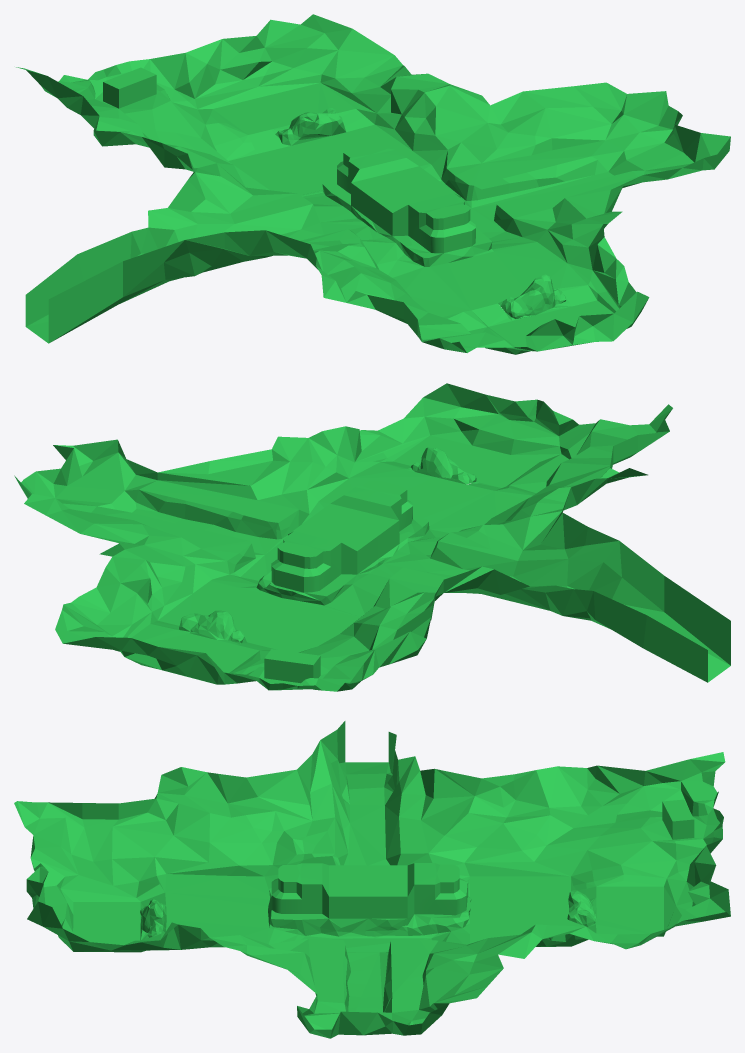
Rendered from Enviro_Level_5_COL.fbx.
3 renders of one model, top to bottom at view 1: azimuth 30°, elevation 25°; view 2: azimuth 150°, elevation 25°; view 3: azimuth 270°, elevation 25°, orthographic. The views are drawn at different scales.
Parts seen in each view (by area): view 1: Lv5_CollisionMesh2; view 2: Lv5_CollisionMesh2; view 3: Lv5_CollisionMesh2.
Boxes of the visible parts, x1,y1,x2,y2 form: Lv5_CollisionMesh2: (16,14,730,354); Lv5_CollisionMesh2: (14,383,730,691); Lv5_CollisionMesh2: (14,721,730,1038).
Size of the model in its own units: 8770 by 1131 by 8498.
